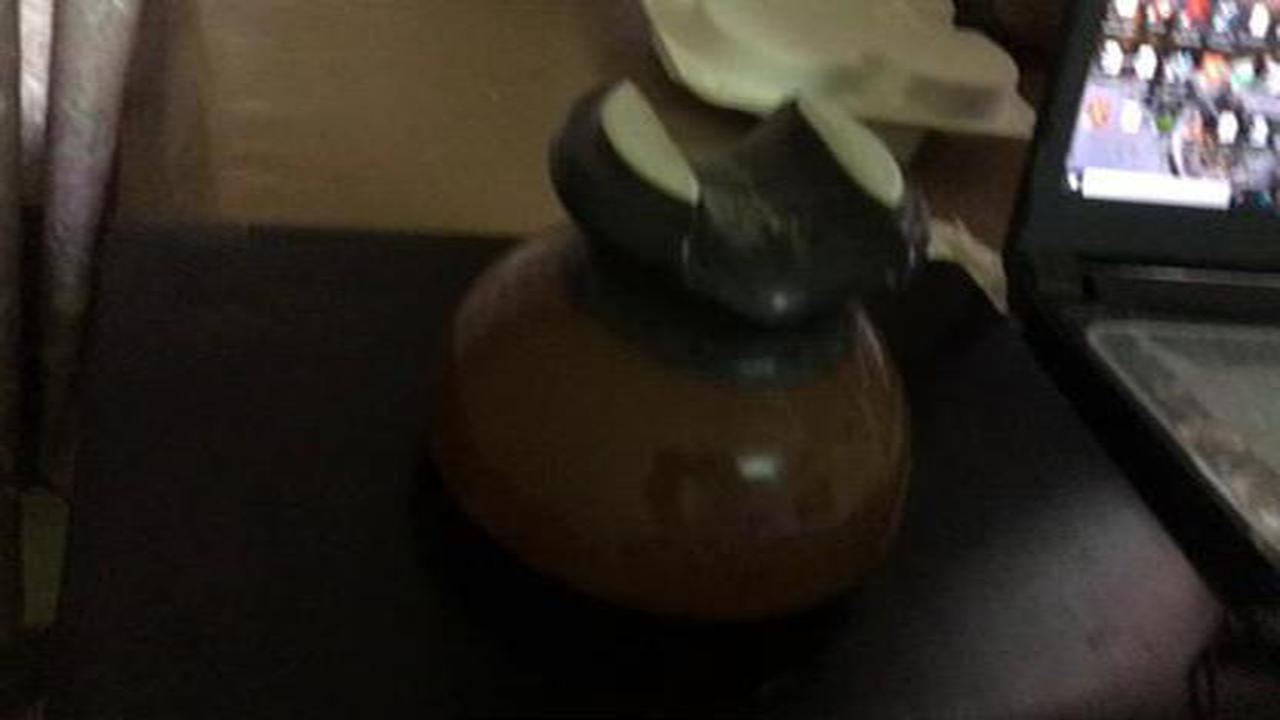insulator_pin: (413, 61, 964, 644)
